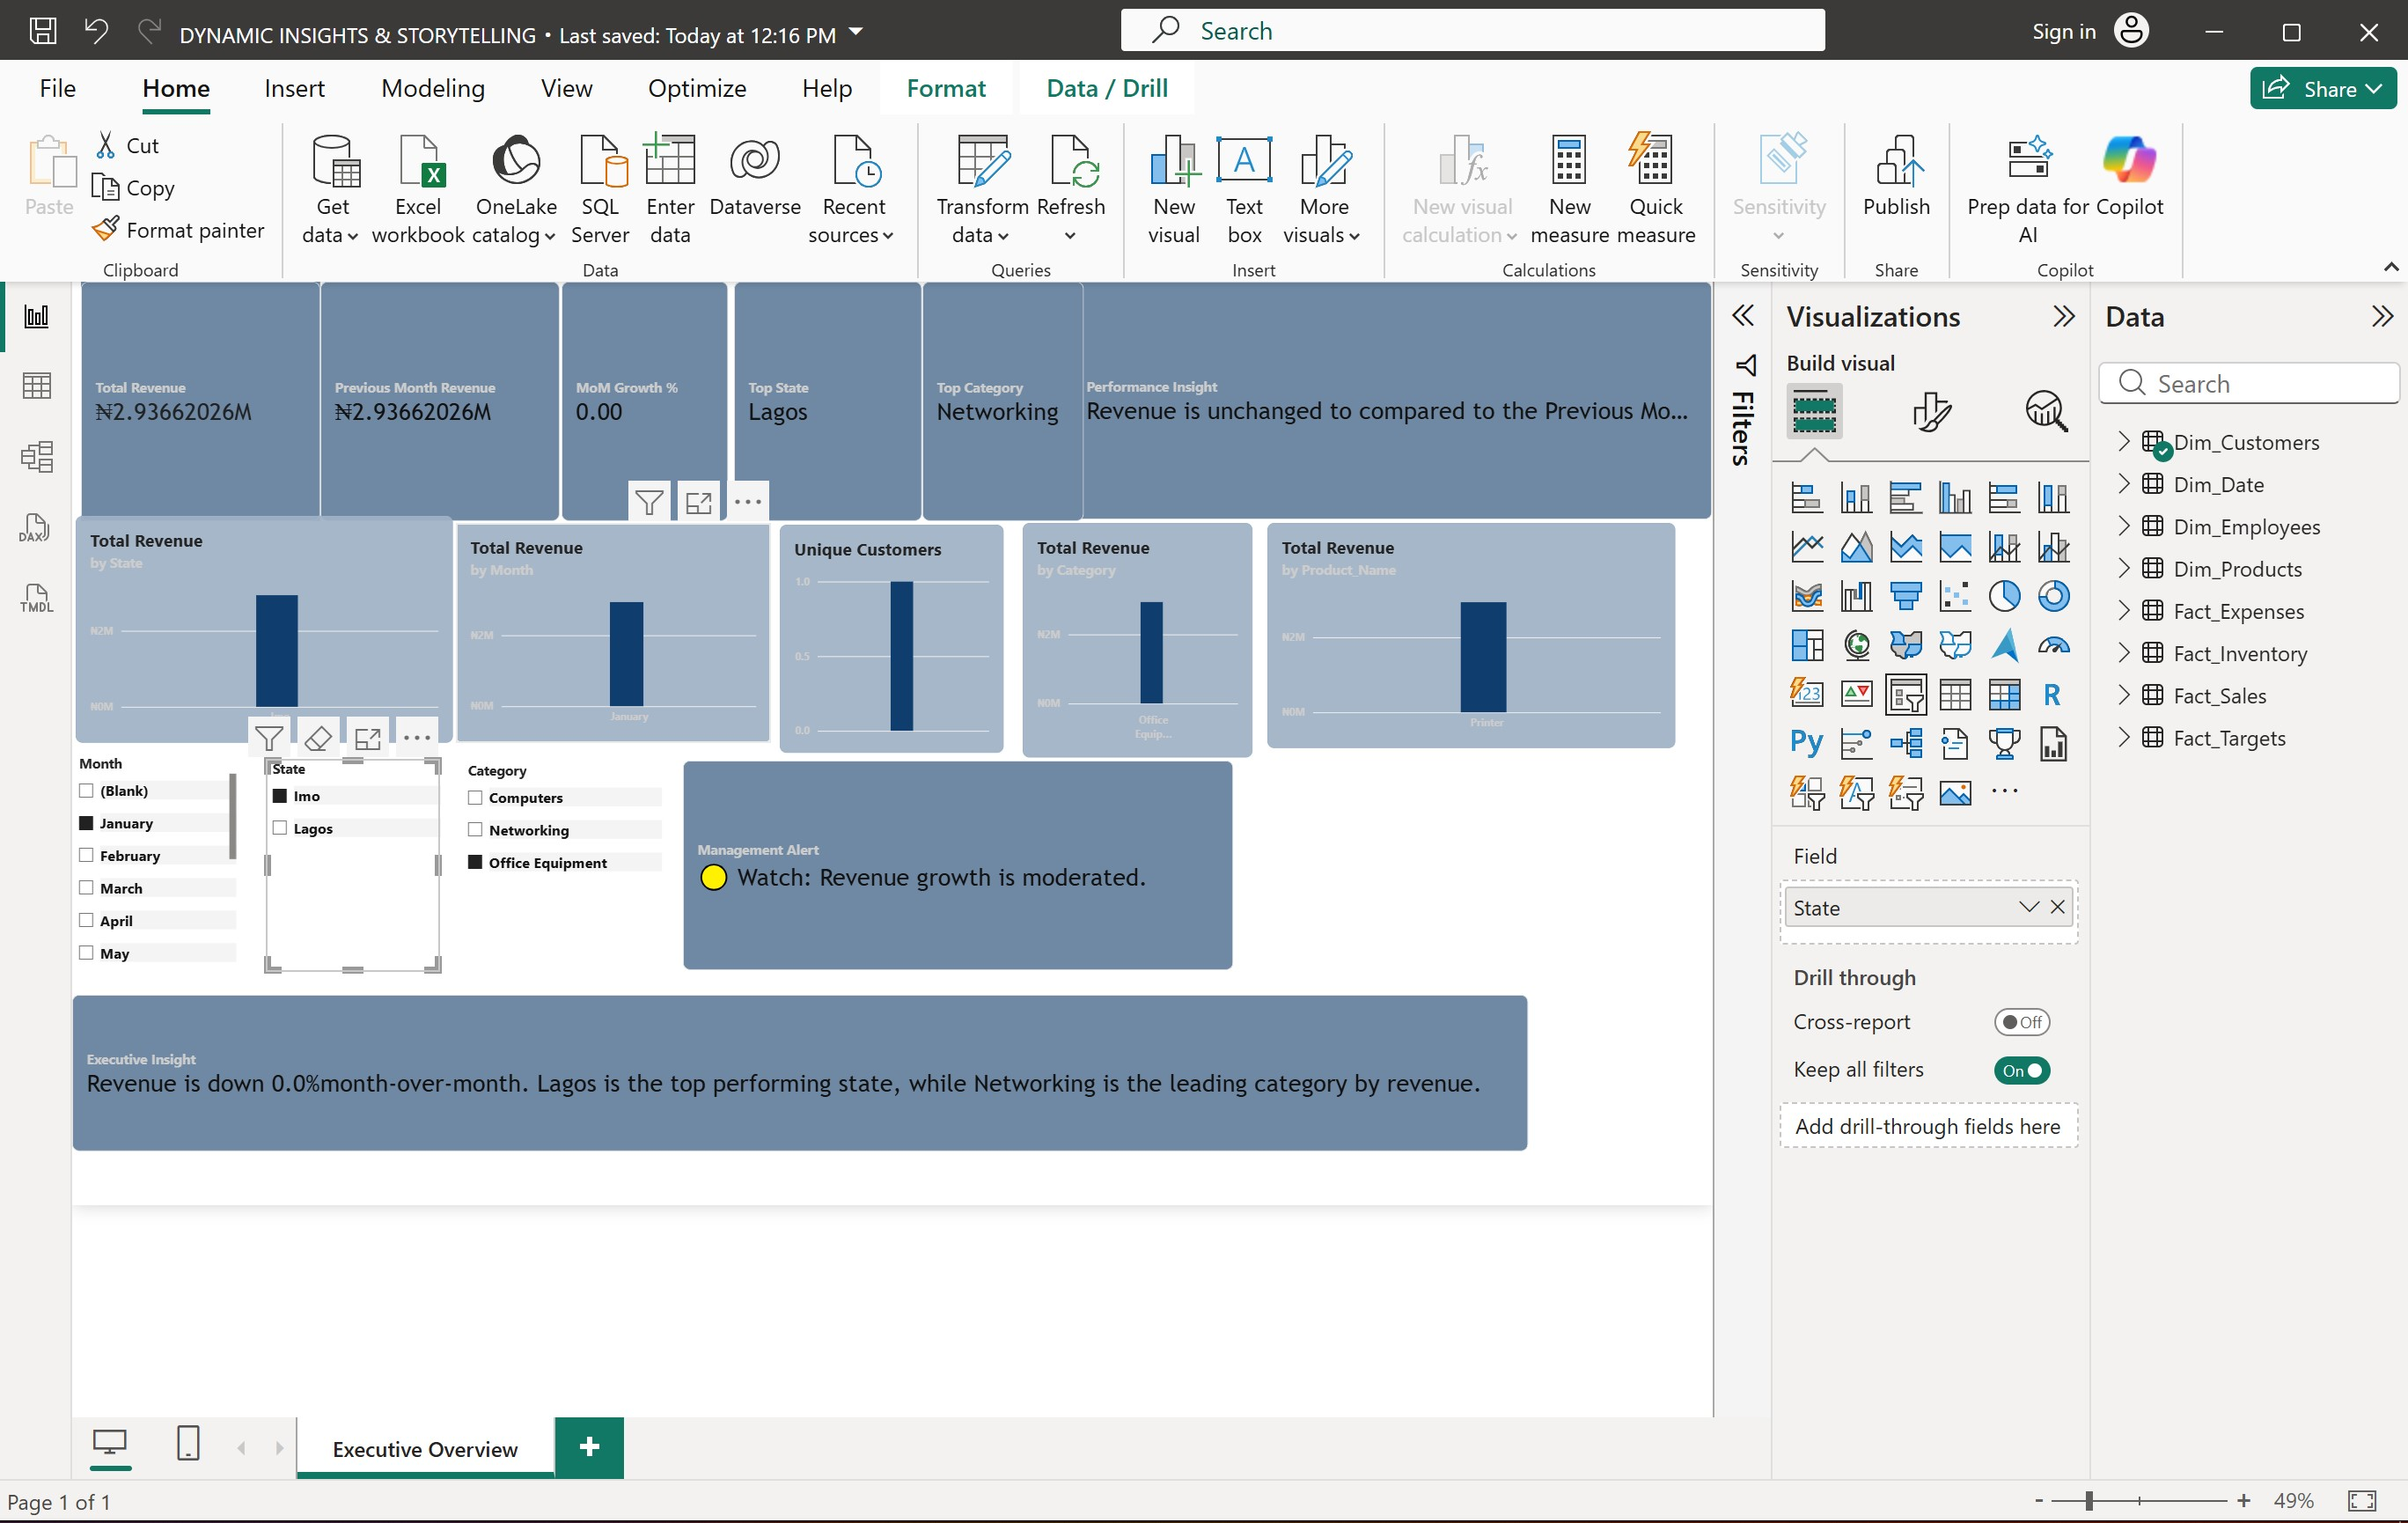

Layout of this report page (visuals, bound fields, positions):
{"tool":"powerbi","page":{"name":"Executive Overview","canvas":[1920,1080],"ordinal":0},"visuals":[{"type":"cardVisual","fields":{"Data":["Dim_Customers.Total Revenue"]},"box":[10,0,280,280],"z":0},{"type":"cardVisual","fields":{"Data":["Dim_Customers.Previous Month Revenue"]},"box":[290.5,0,280,280],"z":1},{"type":"cardVisual","fields":{"Data":["Dim_Customers.MoM Growth %"]},"box":[572.7,0,195.7,280.2],"z":2},{"type":"cardVisual","fields":{"Data":["Dim_Customers.Performance Insight"]},"box":[1193.3,0,718.7,279],"z":3},{"type":"cardVisual","fields":{"Data":["Dim_Customers.Top State"]},"box":[774.6,0,220.4,280.2],"z":4},{"type":"cardVisual","fields":{"Data":["Dim_Customers.Top Category"]},"box":[995.6,0,189.5,280.2],"z":5},{"type":"cardVisual","fields":{"Data":["Dim_Customers.Executive Insight"]},"box":[0,835.3,1704.5,183.5],"z":6},{"type":"clusteredColumnChart","fields":{"Y":["Dim_Customers.Unique Customers"]},"box":[828.2,285,261.8,267.2],"z":7},{"type":"columnChart","fields":{"Category":["Dim_Customers.Join_Date.Variation.Date Hierarchy.Month"],"Y":["Dim_Customers.Total Revenue"]},"box":[448.8,283.2,368.7,256.5],"z":8},{"type":"columnChart","fields":{"Category":["Dim_Customers.State"],"Y":["Dim_Customers.Total Revenue"]},"box":[3.6,274.3,441.7,265.4],"z":9},{"type":"columnChart","fields":{"Category":["Dim_Products.Category"],"Y":["Dim_Customers.Total Revenue"]},"box":[1113.2,281.4,268.9,274.3],"z":10},{"type":"columnChart","fields":{"Category":["Dim_Products.Product_Name"],"Y":["Dim_Customers.Total Revenue"]},"box":[1398.1,281.4,477.3,263.6],"z":11},{"type":"slicer","fields":{"Values":["Dim_Customers.Join_Date.Variation.Date Hierarchy.Month"]},"box":[0,552.1,192,246],"z":12},{"type":"slicer","fields":{"Values":["Dim_Customers.State"]},"box":[226.2,557.5,204.8,249.4],"z":13},{"type":"slicer","fields":{"Values":["Dim_Products.Category"]},"box":[456,561,235.1,245.8],"z":14},{"type":"cardVisual","fields":{"Data":["Dim_Customers.Management Alert"]},"box":[714.2,561,644.8,245.2],"z":15}]}

Visuals, with their boxes on the page's 1920x1080 design canvas (x1, y1, x2, y2). These are canvas units, not pixel positions in the 2408x1523 screenshot, which may show the page scaled, cropped or inside an application window:
cardVisual - Dim_Customers.Total Revenue: 10, 0, 290, 280
cardVisual - Dim_Customers.Previous Month Revenue: 290, 0, 570, 280
cardVisual - Dim_Customers.MoM Growth %: 573, 0, 768, 280
cardVisual - Dim_Customers.Performance Insight: 1193, 0, 1912, 279
cardVisual - Dim_Customers.Top State: 775, 0, 995, 280
cardVisual - Dim_Customers.Top Category: 996, 0, 1185, 280
cardVisual - Dim_Customers.Executive Insight: 0, 835, 1704, 1019
clusteredColumnChart - Dim_Customers.Unique Customers: 828, 285, 1090, 552
columnChart - Dim_Customers.Join_Date.Variation.Date Hierarchy.Month x Dim_Customers.Total Revenue: 449, 283, 818, 540
columnChart - Dim_Customers.State x Dim_Customers.Total Revenue: 4, 274, 445, 540
columnChart - Dim_Products.Category x Dim_Customers.Total Revenue: 1113, 281, 1382, 556
columnChart - Dim_Products.Product_Name x Dim_Customers.Total Revenue: 1398, 281, 1875, 545
slicer - Dim_Customers.Join_Date.Variation.Date Hierarchy.Month: 0, 552, 192, 798
slicer - Dim_Customers.State: 226, 558, 431, 807
slicer - Dim_Products.Category: 456, 561, 691, 807
cardVisual - Dim_Customers.Management Alert: 714, 561, 1359, 806
